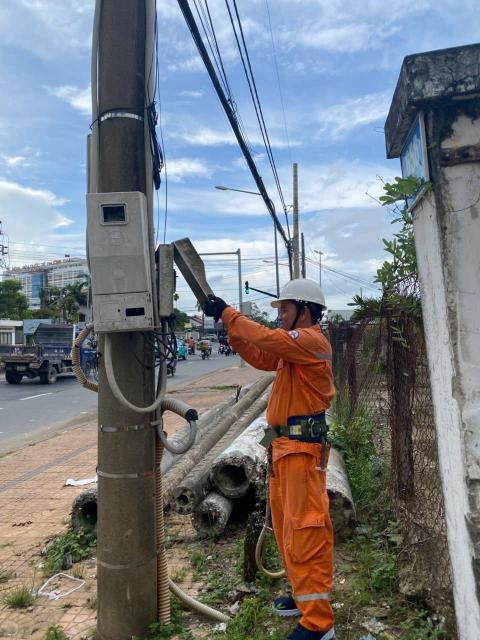gloves: (196, 288, 233, 327)
harness: (255, 401, 343, 455)
helmet: (273, 272, 338, 318)
shoes: (260, 608, 348, 640), (261, 585, 328, 620)
